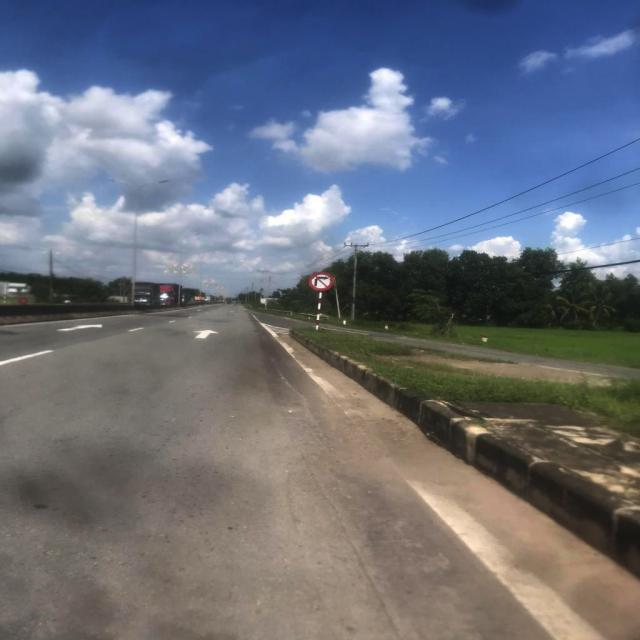cam_re_phai: (309, 272, 336, 291)
